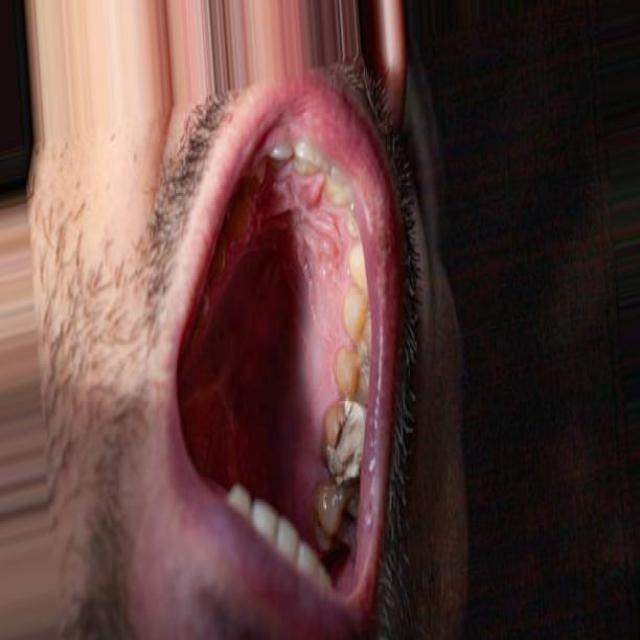caries: (320, 399, 373, 485)
